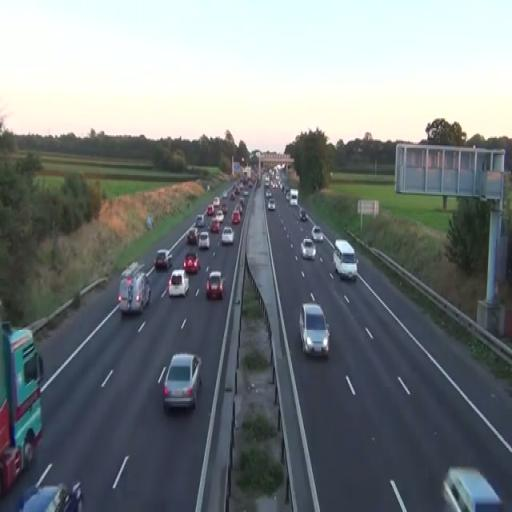Car: (162, 353, 202, 411), (18, 477, 84, 511), (300, 302, 330, 358), (168, 269, 190, 297), (206, 270, 226, 300), (183, 252, 200, 274), (301, 238, 316, 261), (221, 226, 234, 246), (198, 231, 210, 250), (312, 225, 324, 244), (231, 208, 241, 226)
Truck: (0, 320, 44, 498), (118, 262, 151, 315), (333, 240, 358, 281)
